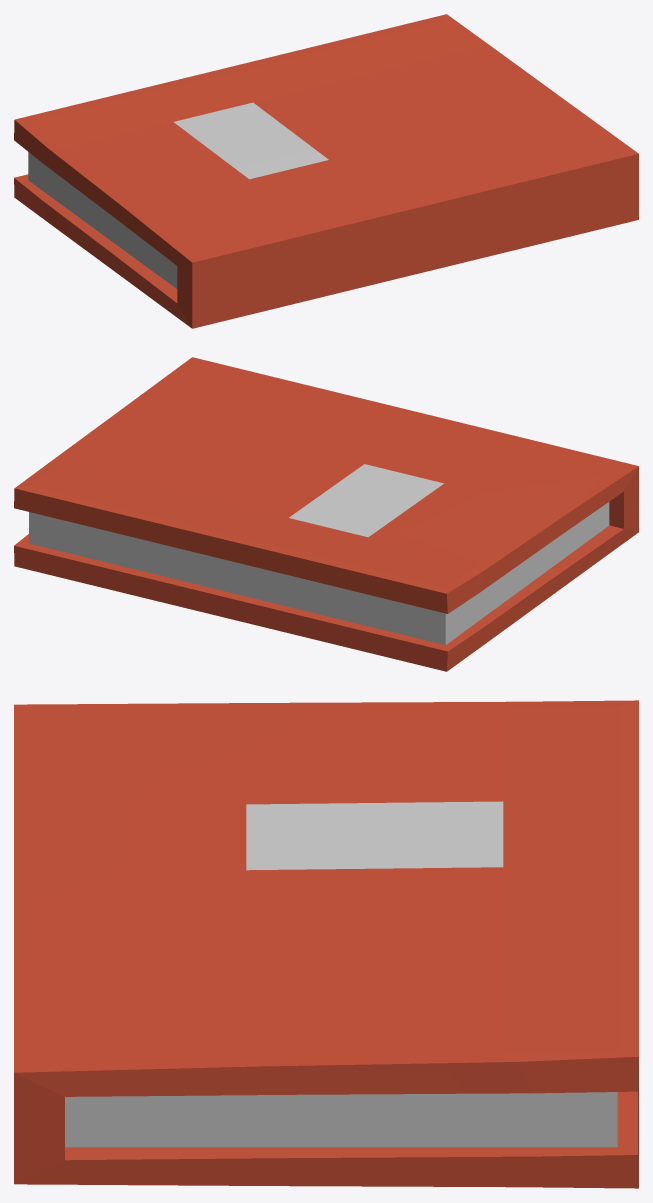
The model's file is Buku.fbx.
3 renders of one model, top to bottom at view 1: azimuth 30°, elevation 25°; view 2: azimuth 150°, elevation 25°; view 3: azimuth 270°, elevation 25°, orthographic. The views are drawn at different scales.
Visible parts, largest first — view 1: Cube.001; view 2: Cube.001; view 3: Cube.001.
Boxes of the visible parts, x1,y1,x2,y2 form: Cube.001: (14,14,638,328); Cube.001: (14,357,638,671); Cube.001: (14,700,638,1188).
Size of the model in its own units: 626 by 104 by 449.
